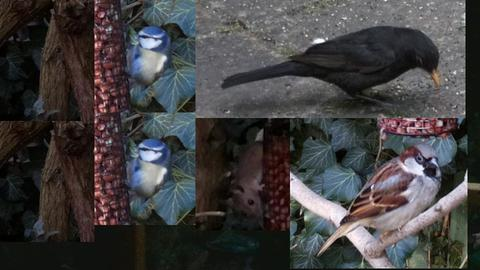blackbird: (220, 25, 440, 111)
blue tit: (118, 25, 170, 100), (118, 138, 170, 213)
mouse: (226, 143, 265, 218)
sparrow: (315, 143, 442, 258)
